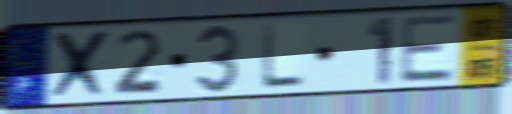1: (365, 14, 396, 88)
2: (112, 27, 165, 99)
3: (193, 22, 243, 96)
E: (396, 13, 457, 86)
L: (258, 21, 308, 91)
X: (47, 27, 114, 103)
